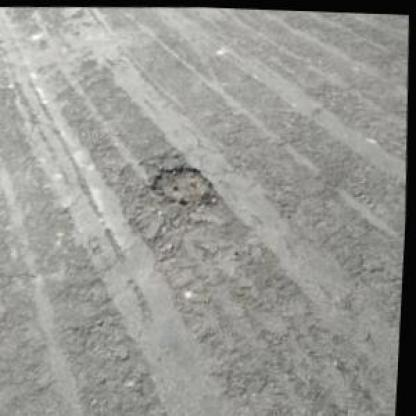pothole: (150, 160, 220, 206)
